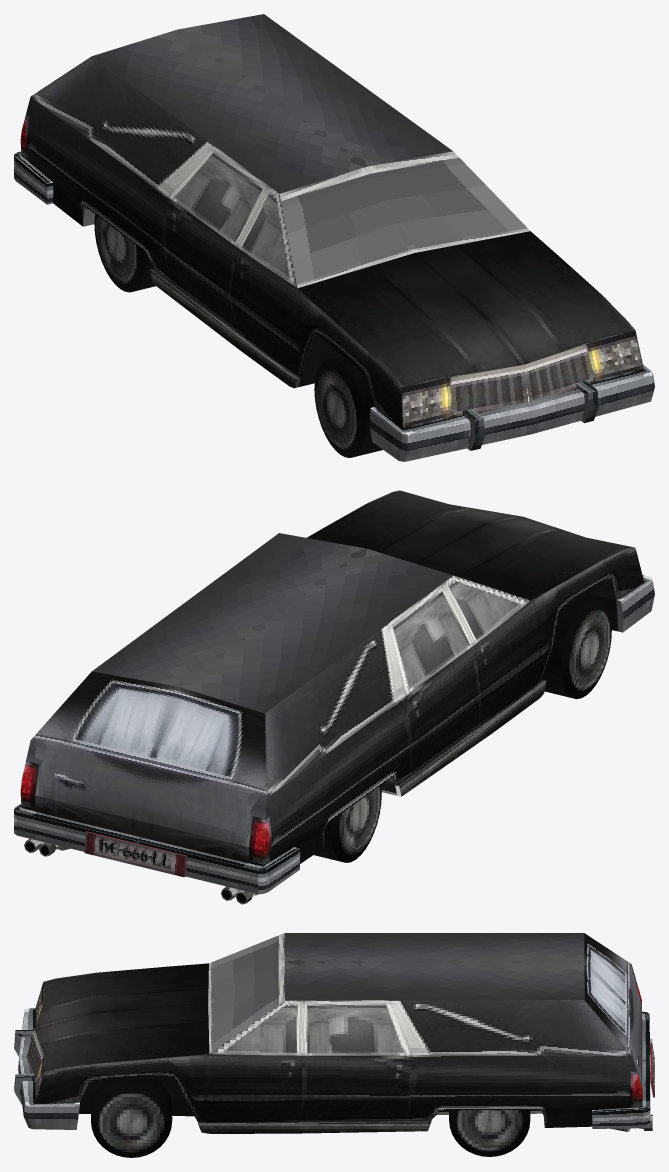
File: hearse.glb
3 views of the same model, one above another, from view 1: azimuth 30°, elevation 25°; view 2: azimuth 150°, elevation 25°; view 3: azimuth 270°, elevation 25° (orthographic). The views are drawn at different scales.
Parts seen in each view (by area): view 1: Body, Wheel_FR, Wheel_RR; view 2: Body, Wheel_FR, Wheel_RR; view 3: Body, Wheel_FL, Wheel_RL.
Boxes of the visible parts, x1=… form: Body: x1=14, y1=14, x2=654, y2=461; Wheel_FR: x1=314, y1=355, x2=382, y2=457; Wheel_RR: x1=94, y1=214, x2=155, y2=292; Body: x1=14, y1=490, x2=654, y2=904; Wheel_FR: x1=542, y1=596, x2=611, y2=699; Wheel_RR: x1=314, y1=785, x2=381, y2=862; Body: x1=14, y1=933, x2=654, y2=1133; Wheel_FL: x1=91, y1=1078, x2=172, y2=1157; Wheel_RL: x1=449, y1=1109, x2=530, y2=1156.
Size of the model in its own units: 2.04 by 1.44 by 5.6.
Materials: 5 (5 with a texture image).
